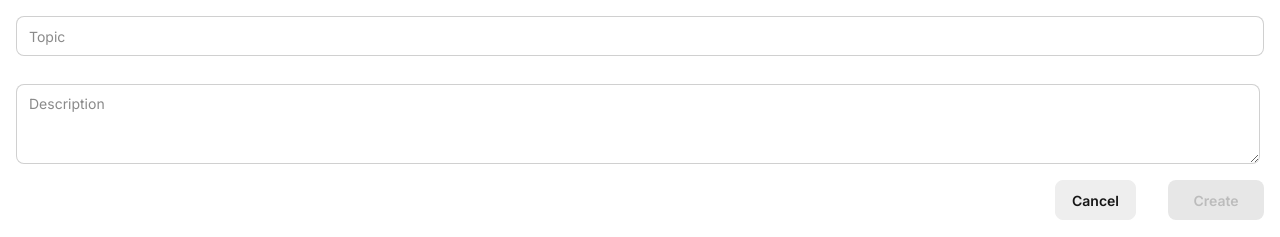
Test: Notes Editor › topic input › required error › is no longer displayed after text entry
Click the field labelled "Topic".
click(640, 36)  # box [16,16,1264,56]
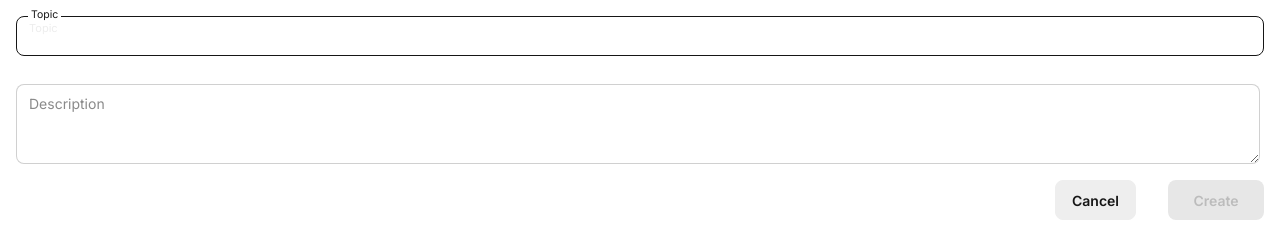
Press Tab
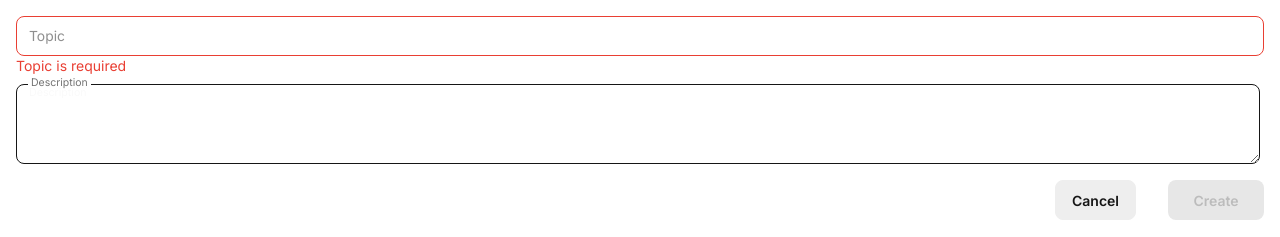
Now the text "Topic is required" is shown, box [16,57,126,74]
Type "f" into the field labelled "Topic".
click(640, 36); type("f")  # box [16,16,1264,56]
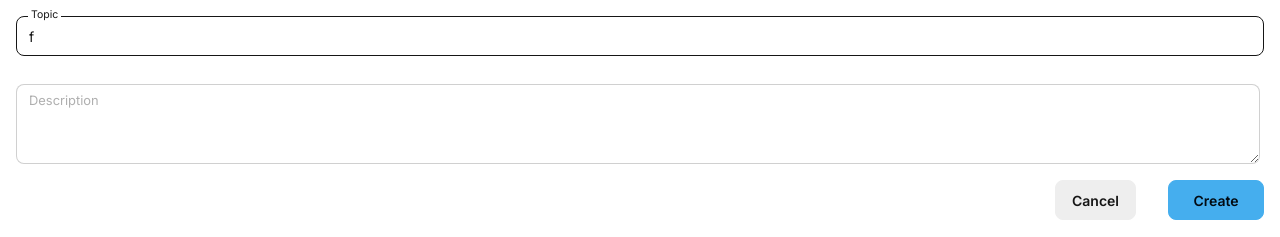
Now the text "Topic is required" is gone
